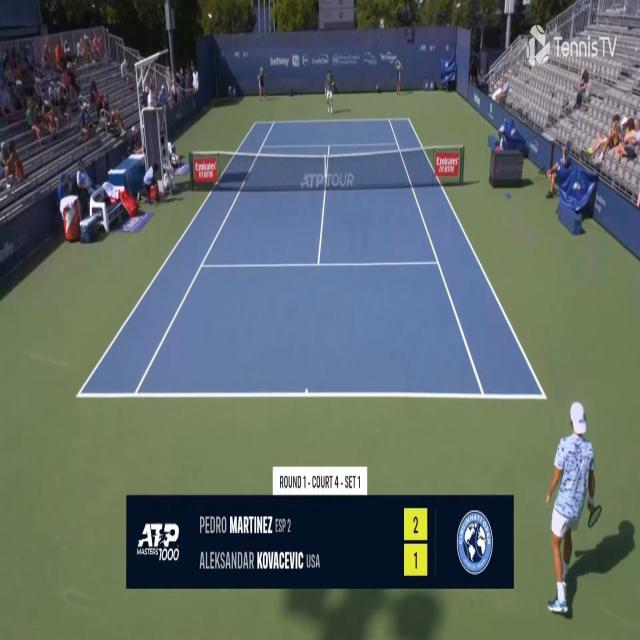tennis-player: (544, 398, 602, 618), (324, 67, 336, 114)
